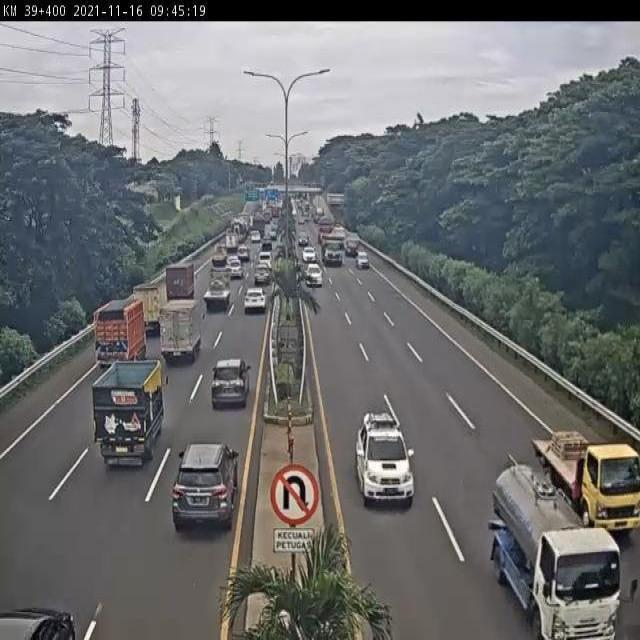car: (356, 411, 414, 507), (173, 444, 239, 527), (210, 359, 249, 407), (244, 291, 266, 317), (306, 263, 323, 289), (234, 245, 253, 268), (225, 259, 242, 280), (253, 269, 268, 288)
truck: (490, 461, 621, 640), (532, 435, 640, 533), (95, 361, 165, 468), (94, 299, 145, 373), (157, 299, 199, 365), (129, 287, 165, 335), (161, 263, 192, 309), (202, 272, 231, 320), (208, 246, 228, 270), (257, 253, 276, 275)
